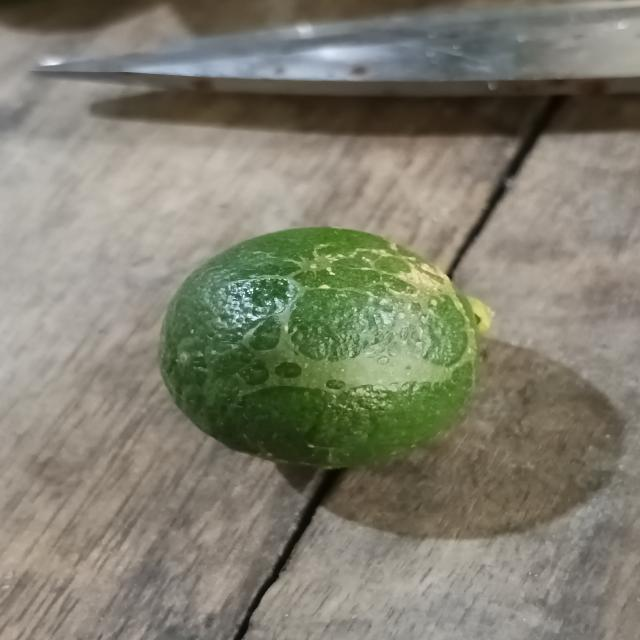thrips: (156, 224, 481, 471)
